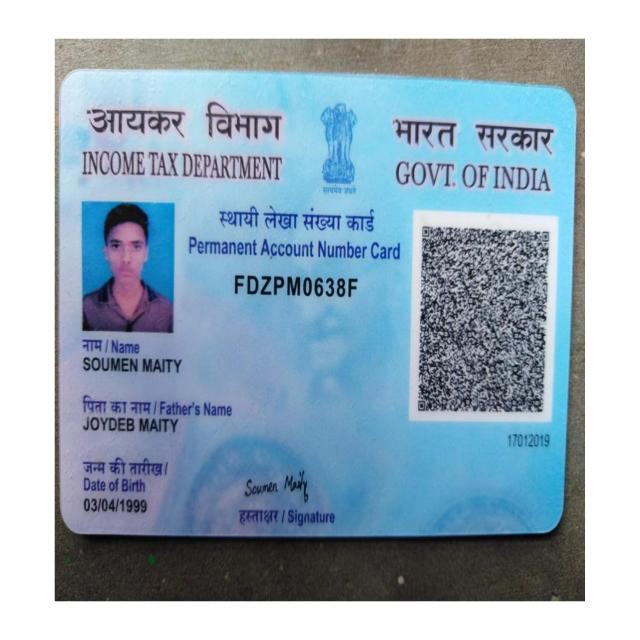pan_card: (63, 76, 571, 529)
